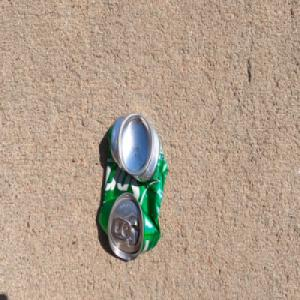SodaCan: (98, 111, 169, 261)
